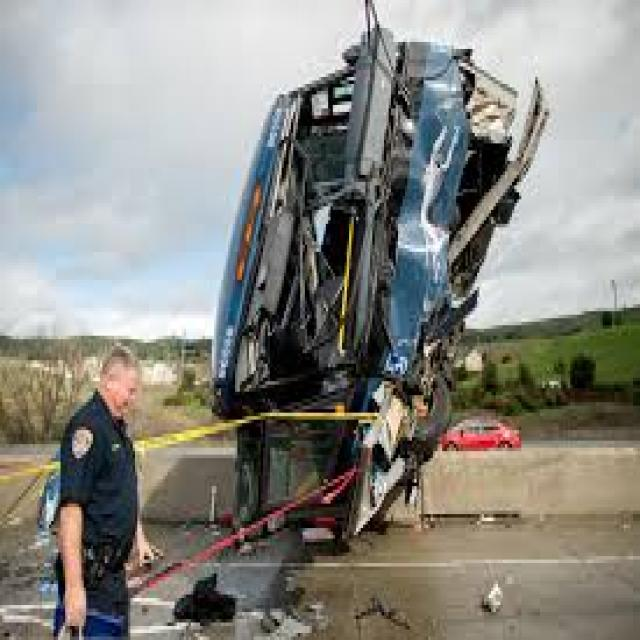accident: (189, 1, 570, 562)
